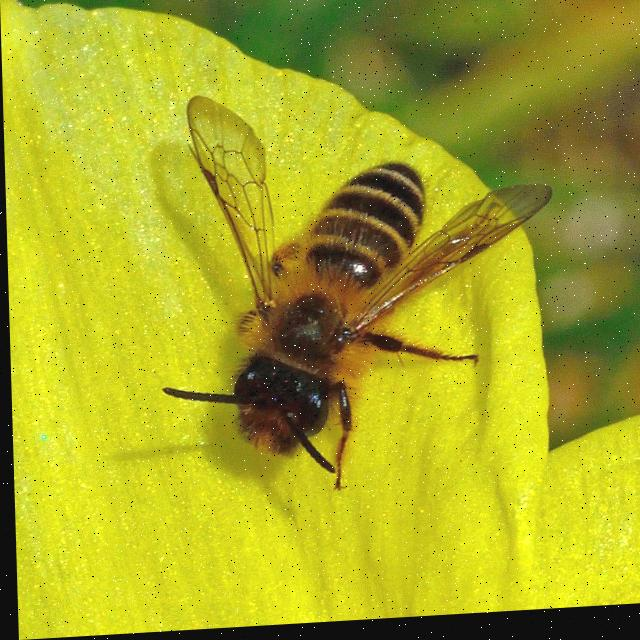Apis-mellifera-scutellata: (138, 57, 565, 538)
